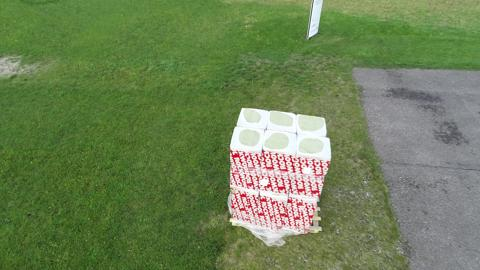RockwoolPallet: (230, 107, 333, 236)
